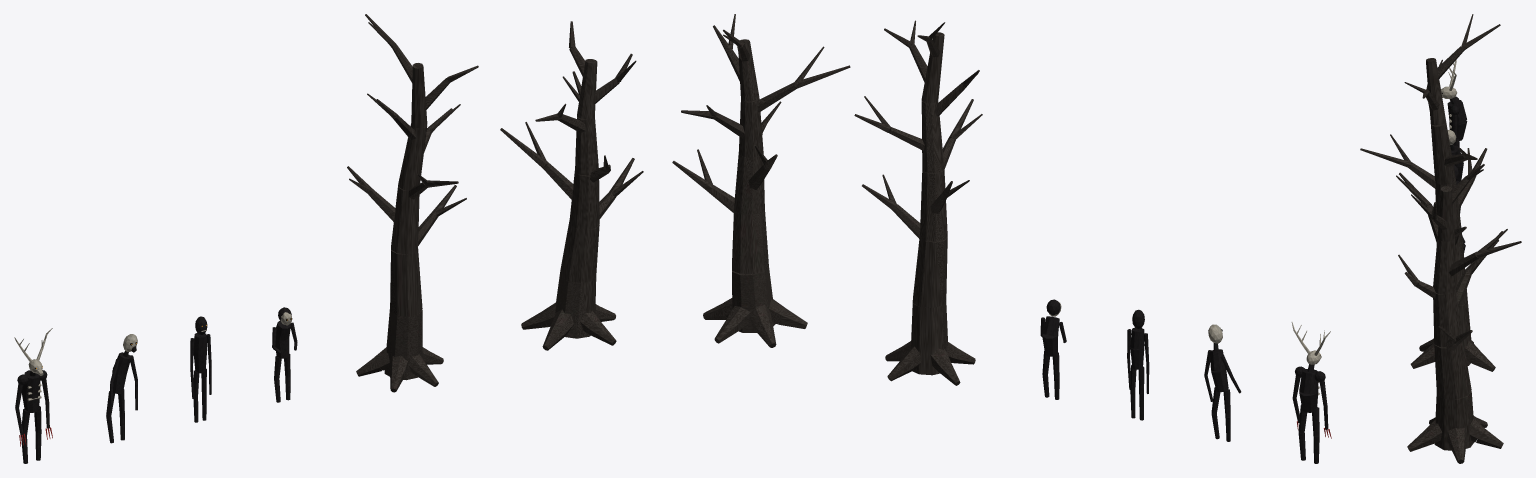
The model's file is Lobby_Pack4_ForestAndWatchers.glb.
3 views of the same model, side by side, from view 1: azimuth 30°, elevation 25°; view 2: azimuth 150°, elevation 25°; view 3: azimuth 270°, elevation 25° (orthographic). The views are drawn at different scales.
Visible parts, largest first — view 1: Lobby_DeadTree_Gnarled, Lobby_DeadTree_Tall, Lobby_Watcher_Wendigo, Lobby_Watcher_Stare, Lobby_Watcher_Skinwalker, Lobby_Watcher_Lurker; view 2: Lobby_DeadTree_Tall, Lobby_DeadTree_Gnarled, Lobby_Watcher_Wendigo, Lobby_Watcher_Skinwalker, Lobby_Watcher_Stare, Lobby_Watcher_Lurker; view 3: Lobby_DeadTree_Gnarled, Lobby_DeadTree_Tall, Lobby_Watcher_Wendigo, Lobby_Watcher_Skinwalker.
Boxes of the visible parts, box(x1,y1,x2,y2) form: Lobby_DeadTree_Gnarled: box(500, 21, 643, 350); Lobby_DeadTree_Tall: box(347, 14, 478, 392); Lobby_Watcher_Wendigo: box(14, 328, 52, 463); Lobby_Watcher_Stare: box(190, 316, 211, 422); Lobby_Watcher_Skinwalker: box(106, 334, 137, 443); Lobby_Watcher_Lurker: box(272, 307, 297, 402); Lobby_DeadTree_Tall: box(854, 20, 982, 385); Lobby_DeadTree_Gnarled: box(672, 14, 850, 347); Lobby_Watcher_Wendigo: box(1291, 322, 1331, 463); Lobby_Watcher_Skinwalker: box(1204, 324, 1241, 441); Lobby_Watcher_Stare: box(1127, 309, 1149, 420); Lobby_Watcher_Lurker: box(1040, 299, 1066, 399); Lobby_DeadTree_Gnarled: box(1396, 164, 1521, 463); Lobby_DeadTree_Tall: box(1360, 14, 1500, 371); Lobby_Watcher_Wendigo: box(1441, 60, 1467, 147); Lobby_Watcher_Skinwalker: box(1447, 130, 1463, 181).
Size of the model in its own units: 18.21 by 9.71 by 4.2.
Materials: 1 (1 with a texture image).
